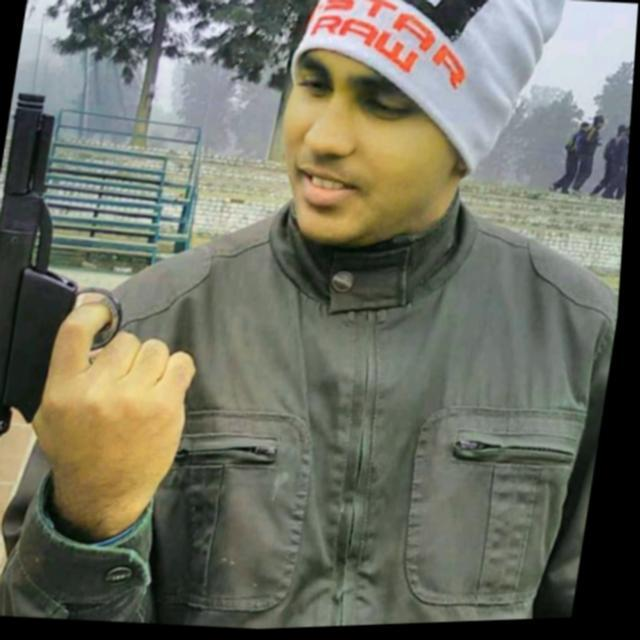weapon: (0, 78, 239, 467)
